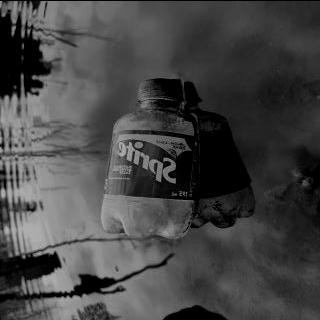bottle: (97, 75, 207, 241)
